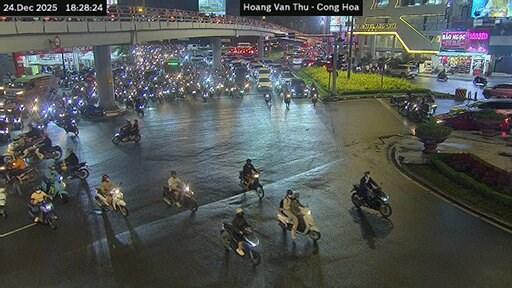motorbike: (351, 184, 390, 216), (95, 184, 127, 216), (236, 226, 259, 265), (39, 170, 67, 202), (6, 167, 38, 194), (28, 199, 56, 229), (297, 207, 319, 239), (54, 161, 89, 179), (239, 171, 262, 198), (27, 144, 60, 162), (218, 221, 236, 251), (179, 184, 197, 211), (112, 129, 140, 144), (54, 118, 76, 135), (277, 207, 291, 229), (80, 103, 103, 116), (163, 185, 176, 206), (0, 187, 6, 217), (282, 91, 290, 108), (134, 103, 144, 116), (263, 91, 271, 107), (473, 75, 485, 85), (435, 73, 447, 80), (310, 93, 316, 106), (201, 91, 208, 102)
